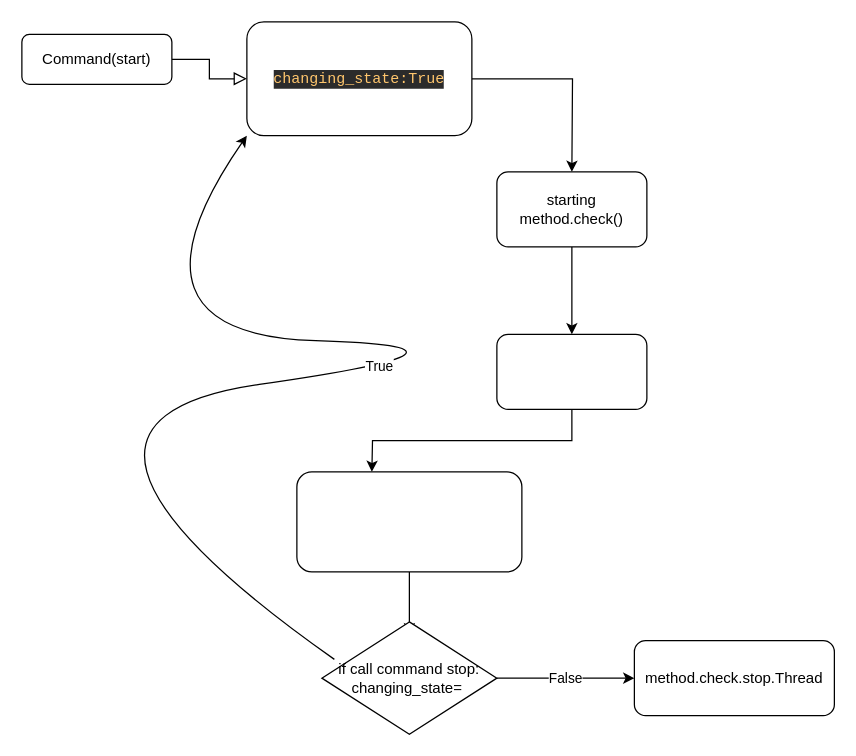
Image size: 856x756. Some labels were removed from this diagram. Each missing label, with the centre of its shape:
"call this method in on_ready(in body of bot)" belongs at (409,521).
"indidivual method to send or change resources" belongs at (571,371).
